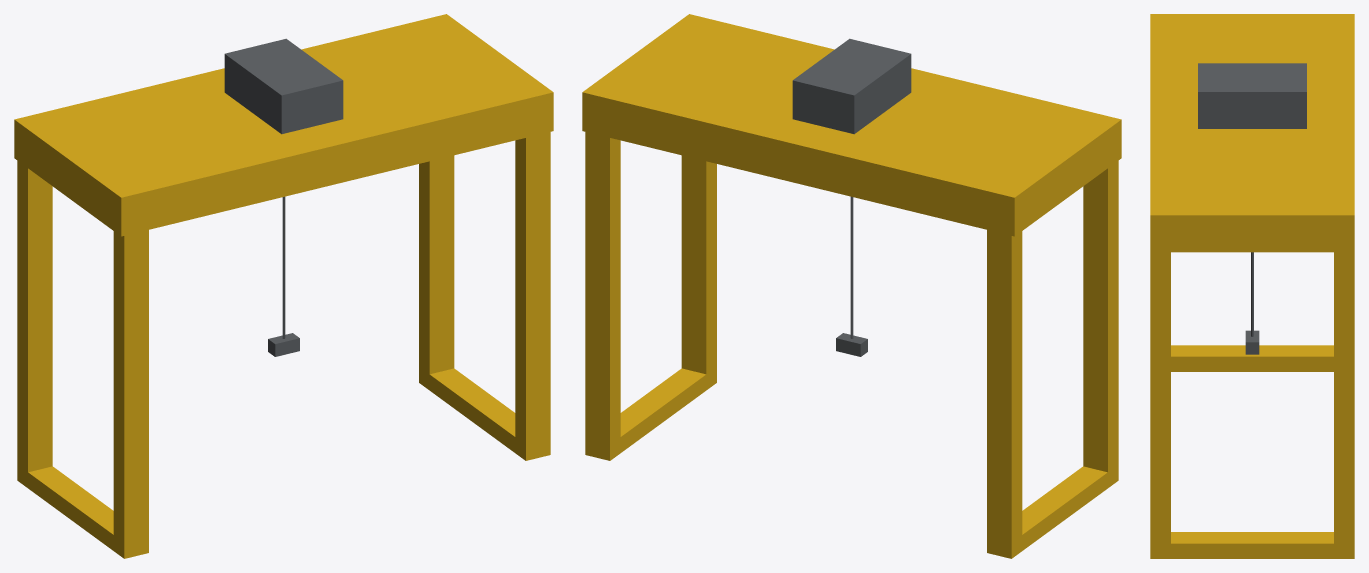
File: pv_jerab.glb
3 views of the same model, side by side, from view 1: azimuth 30°, elevation 25°; view 2: azimuth 150°, elevation 25°; view 3: azimuth 270°, elevation 25° (orthographic). The views are drawn at different scales.
Visible parts, largest first — view 1: dum; view 2: dum; view 3: dum.
Part boxes in pixels (box(x1,y1,x2,y2)): dum: box(14, 14, 553, 558); dum: box(582, 14, 1121, 558); dum: box(1150, 14, 1354, 558).
Size of the model in its own units: 13.96 by 12.37 by 5.98.
1 material, 1 textured.
